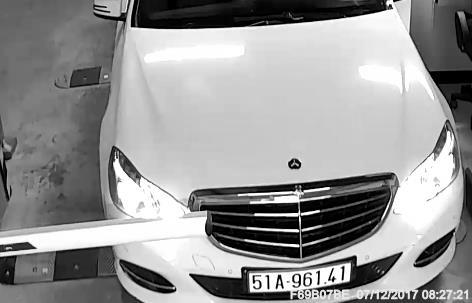License-plate: (246, 254, 357, 294)
